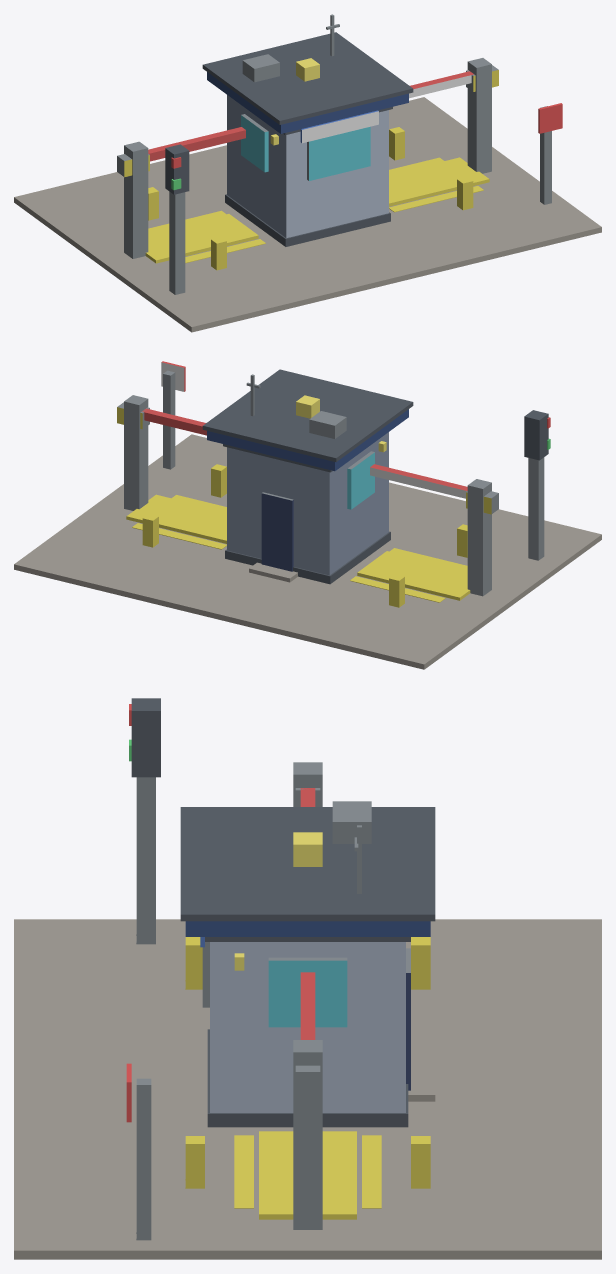
The model's file is SecurityCheckpoint.fbx.
3 views of the same model, one above another, from view 1: azimuth 30°, elevation 25°; view 2: azimuth 150°, elevation 25°; view 3: azimuth 270°, elevation 25° (orthographic). The views are drawn at different scales.
Parts seen in each view (by area): view 1: SecurityCheckpoint; view 2: SecurityCheckpoint; view 3: SecurityCheckpoint.
Boxes of the visible parts, bbox=[...] form: SecurityCheckpoint: bbox=[14, 14, 601, 332]; SecurityCheckpoint: bbox=[14, 361, 601, 669]; SecurityCheckpoint: bbox=[14, 698, 601, 1259].
Bounding box in the file's own units: 1600 × 675 × 1200.
